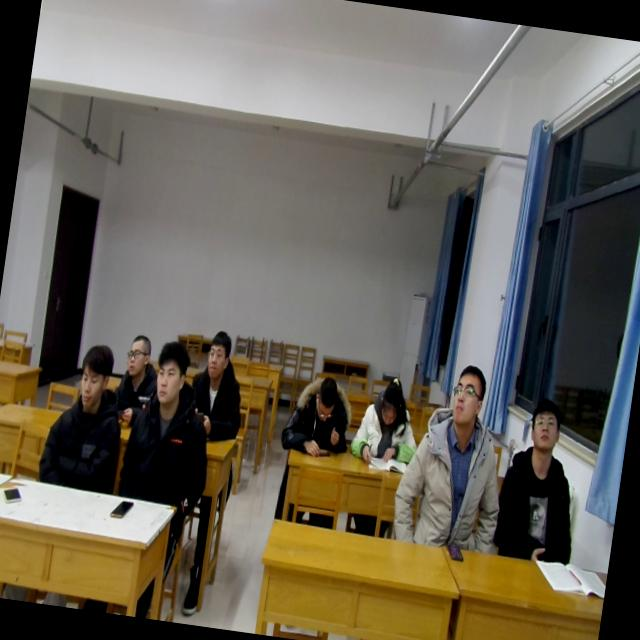down: (374, 374, 409, 434), (309, 367, 343, 425)
lookup: (70, 336, 119, 422), (150, 332, 194, 412), (445, 356, 492, 429), (524, 392, 567, 459), (121, 324, 155, 381), (202, 325, 235, 381)
sit: (386, 359, 519, 557), (114, 336, 223, 509), (491, 396, 591, 569), (35, 336, 134, 491), (184, 328, 254, 447), (351, 371, 426, 475), (280, 366, 360, 459), (108, 334, 164, 431)
